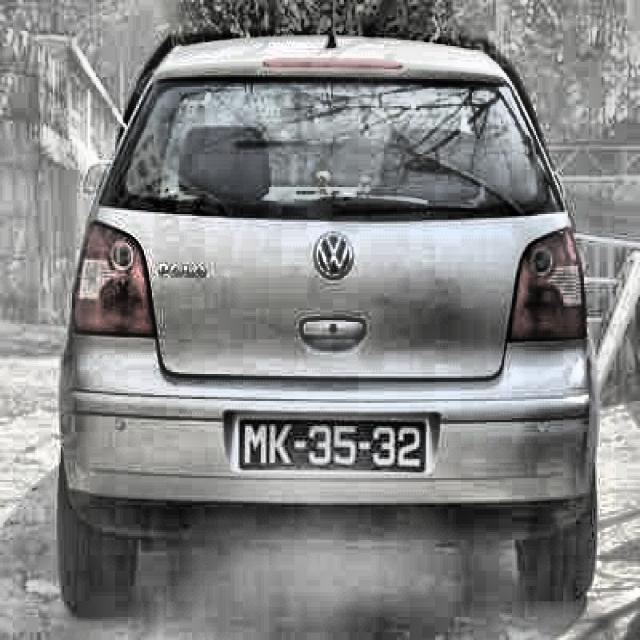license_plate: (238, 416, 429, 477)
